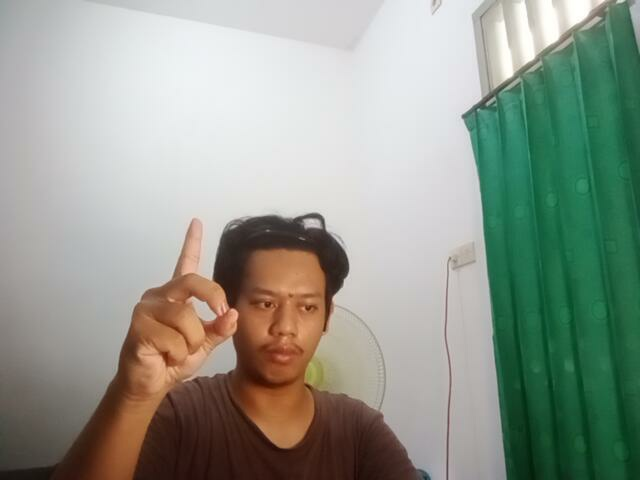D: (102, 213, 247, 397)
